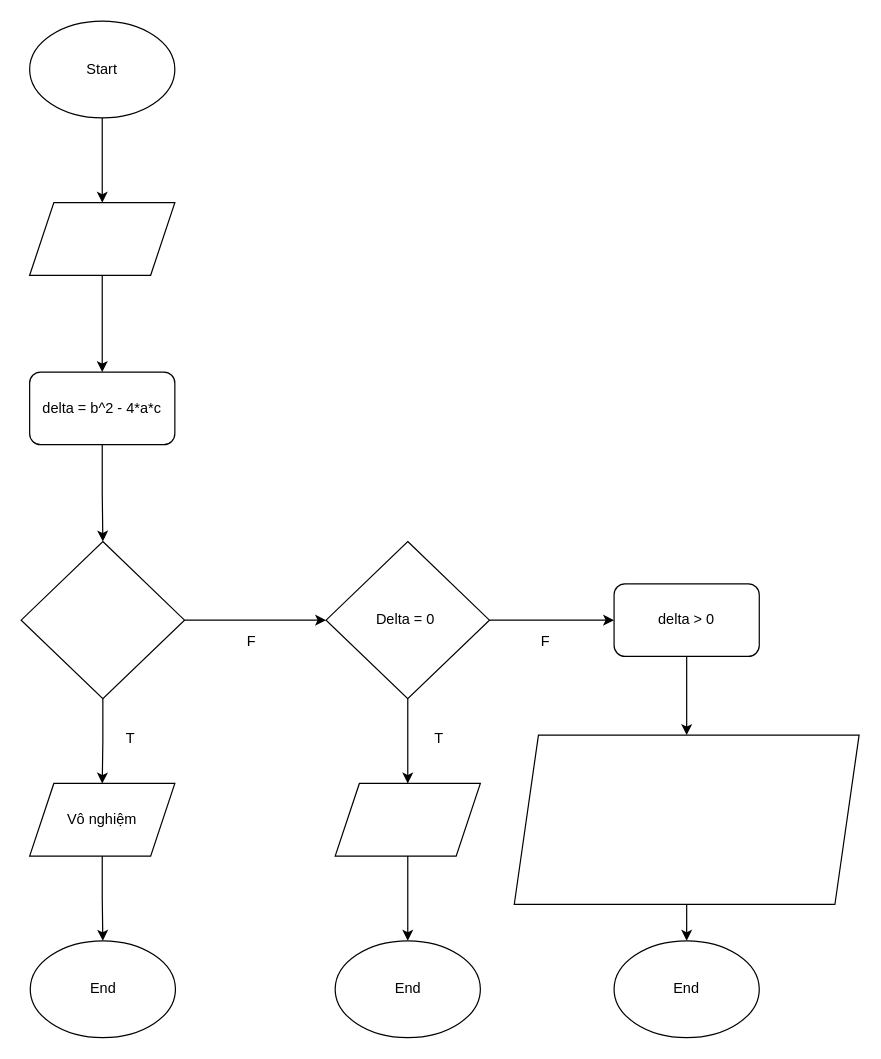
The diagram is 881 pixels wide and 1059 high, and some of its shapes have lost their labels. The shapes that lost their labels are listed below. From the top down, each one's centre as x and y in pixels, then its label:
At (x=101, y=238): "Nhập a,b,c".
At (x=102, y=619): "Delta < 0".
At (x=407, y=819): "S = - b / 2*a".
At (x=686, y=819): "S1 = ( -b + sqrt delta ) / 2*a S2 = ( -b - sqrt delta ) / 2*a".
